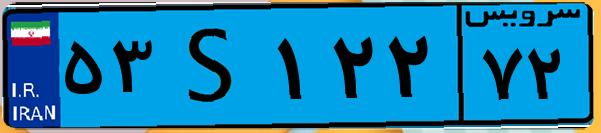1: (270, 28, 330, 110)
2: (385, 28, 445, 110), (330, 28, 385, 110), (525, 38, 570, 115)
3: (110, 28, 158, 98)
5: (57, 26, 110, 100)
7: (475, 38, 525, 113)
S: (158, 12, 270, 120)
